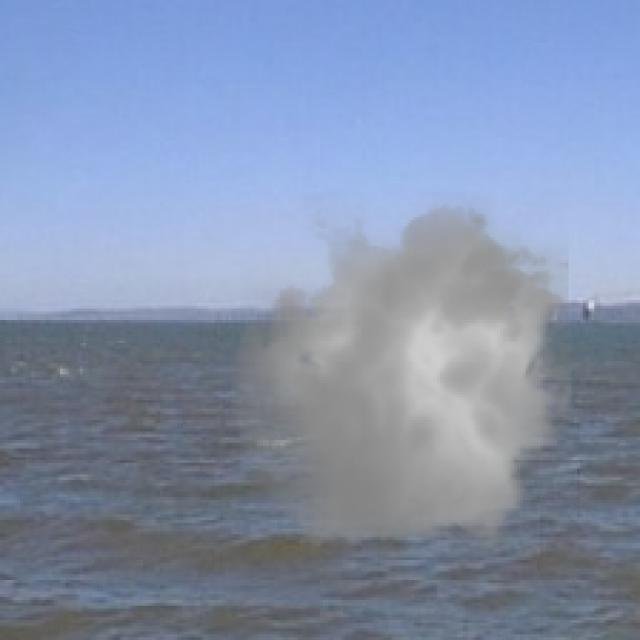smoke: (220, 191, 586, 566)
